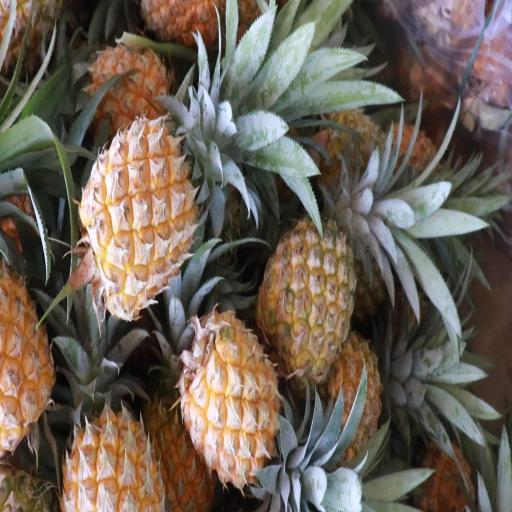------------------------------: (262, 217, 354, 377)
Pineapple - v8 v1: (85, 121, 196, 313), (181, 318, 280, 482), (62, 361, 161, 512), (147, 370, 216, 512), (88, 44, 173, 126)
